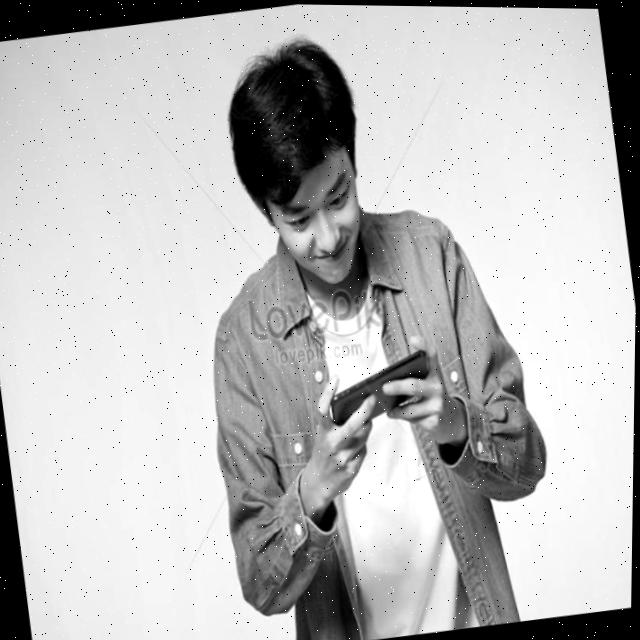phone: (324, 343, 436, 429)
